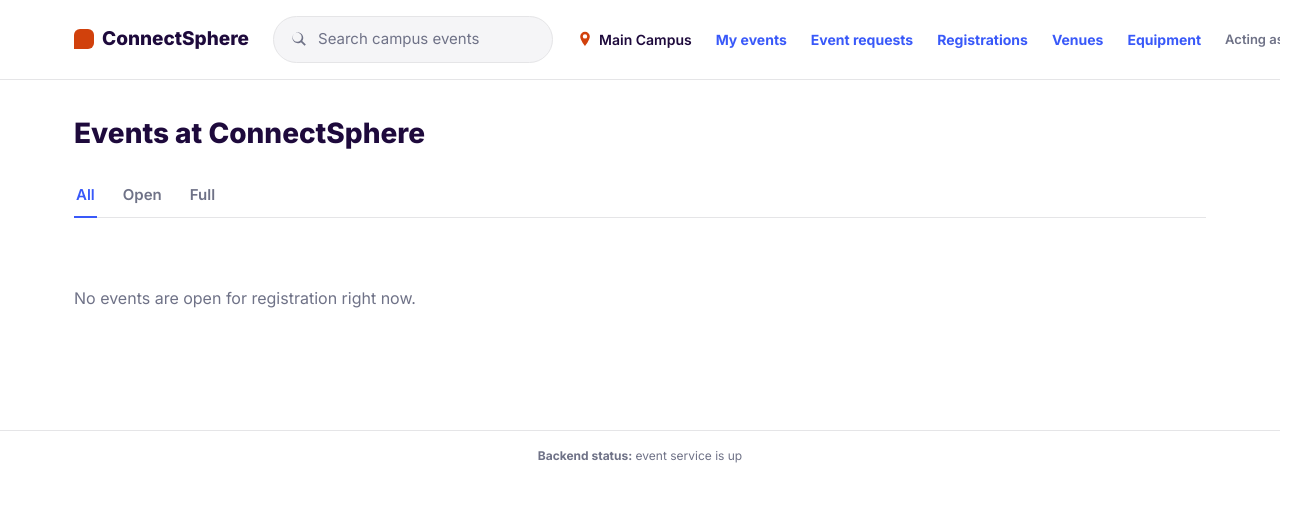
Test case: organiser: event requests (US1) › explains a missing organiser id (VITE_DEV_USER_ID)
This screenshot has width=1292, height=512.
Click the button "Event requests": (862, 39) [811, 29, 913, 50]
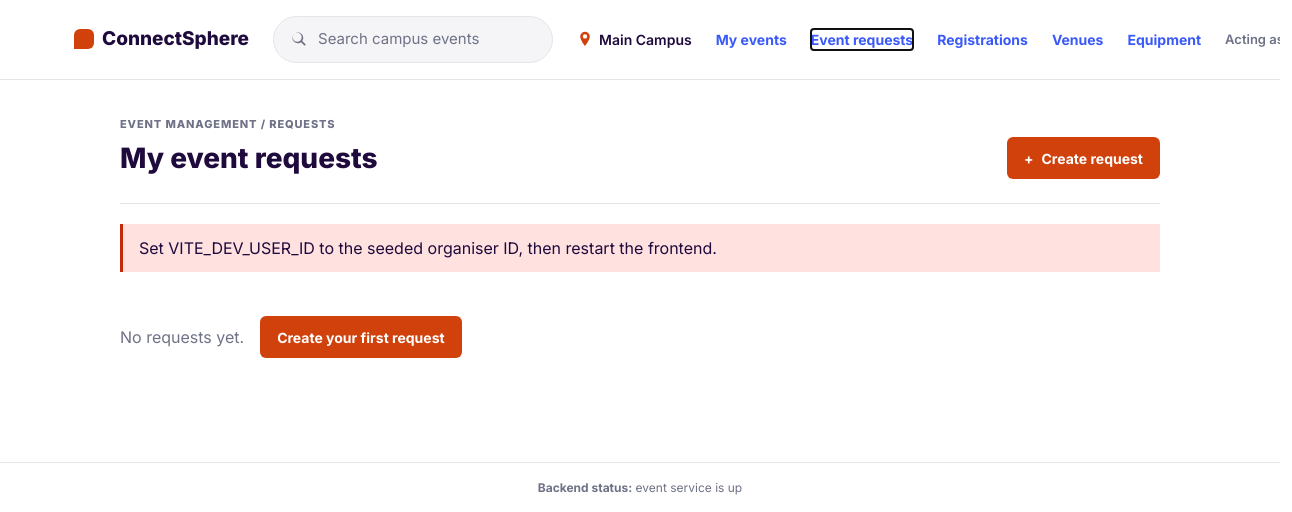
Expected: the message shows "Set VITE_DEV_USER_ID", [139, 238, 717, 258]
